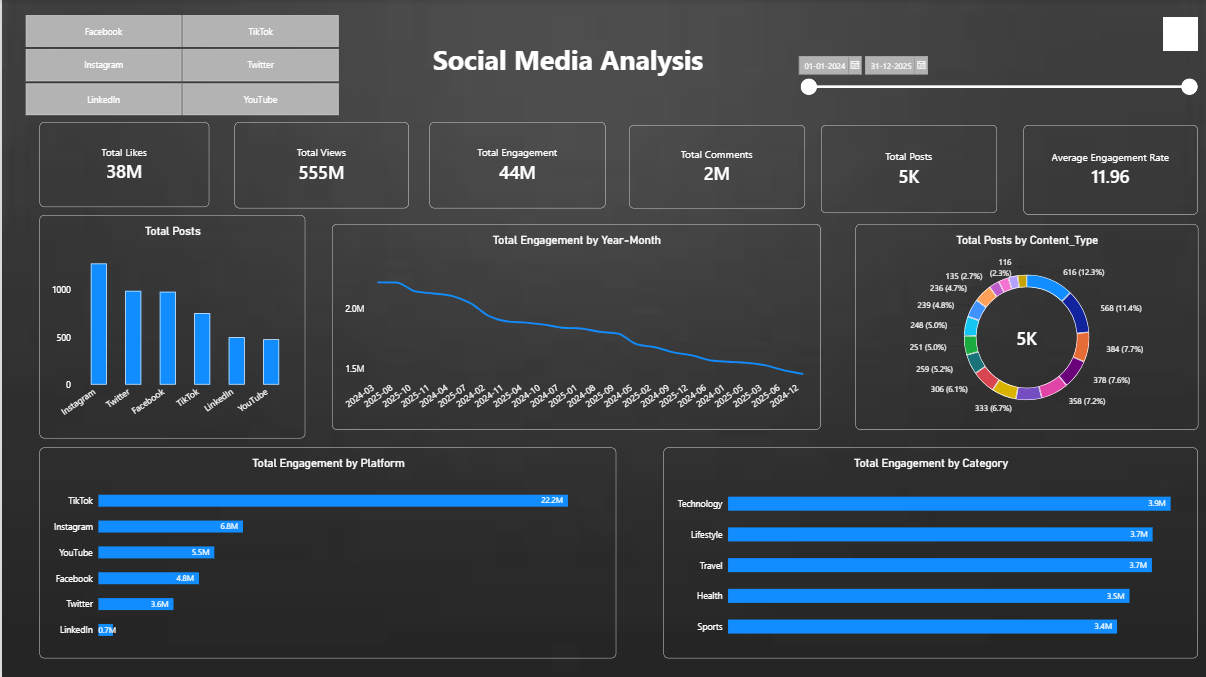

The dashboard page shown, as its layout file describes it:
{"tool":"powerbi","page":{"name":"Page 1","canvas":[1920,1080],"ordinal":0},"visuals":[{"type":"cardVisual","fields":{"Data":["social_media.Total Likes"]},"box":[60,195,270,135],"z":0},{"type":"cardVisual","fields":{"Data":["social_media.Total Posts"]},"box":[1302.5,200,280,140],"z":1000},{"type":"cardVisual","fields":{"Data":["social_media.Total Views"]},"box":[370,195,277.5,137.5],"z":2000},{"type":"cardVisual","fields":{"Data":["social_media.Total Engagement"]},"box":[680,195,280,137.5],"z":3000},{"type":"cardVisual","fields":{"Data":["social_media.Average Engagement Rate"]},"box":[1625,200,277.5,142.5],"z":4000},{"type":"cardVisual","fields":{"Data":["social_media.Total Comments"]},"box":[997.5,200,280,132.5],"z":5000},{"type":"clusteredBarChart","fields":{"Category":["social_media.Platform"],"Y":["social_media.Total Engagement"]},"box":[60,712.5,917.5,335],"z":6000},{"type":"clusteredColumnChart","title":"Total Posts","fields":{"Category":["social_media.Platform"],"Y":["social_media.Total Posts"]},"box":[60,342.5,422.5,355],"z":7000},{"type":"donutChart","fields":{"Category":["social_media.Content_Type"],"Y":["social_media.Total Posts"]},"box":[1357.5,357.5,545,327.5],"z":8000},{"type":"clusteredBarChart","fields":{"Category":["social_media.Category"],"Y":["social_media.Total Engagement"]},"box":[1052.5,712.5,850,335],"z":9000},{"type":"lineChart","fields":{"Category":["DateTable.Year-Month"],"Y":["social_media.Total Engagement"]},"box":[525,357.5,777.5,327.5],"z":10000},{"type":"slicer","fields":{"Values":["DateTable.Date"]},"box":[1260,85,645,130],"z":11000},{"type":"slicer","fields":{"Values":["social_media.Platform"]},"box":[17.5,25,537.5,162.5],"z":12000},{"type":"textbox","box":[572.5,67.5,655,82.5],"z":13000}]}

Visuals, with their boxes in screenshot pixels (x1, y1, x2, y2), scaled from the page's 1920x1080 canvas onto the 1206x677 screenshot:
cardVisual - social_media.Total Likes: locate(38, 122, 207, 207)
cardVisual - social_media.Total Posts: locate(818, 125, 994, 213)
cardVisual - social_media.Total Views: locate(232, 122, 407, 208)
cardVisual - social_media.Total Engagement: locate(427, 122, 603, 208)
cardVisual - social_media.Average Engagement Rate: locate(1021, 125, 1195, 215)
cardVisual - social_media.Total Comments: locate(627, 125, 802, 208)
clusteredBarChart - social_media.Platform x social_media.Total Engagement: locate(38, 447, 614, 657)
"Total Posts" clusteredColumnChart: locate(38, 215, 303, 437)
donutChart - social_media.Content_Type x social_media.Total Posts: locate(853, 224, 1195, 429)
clusteredBarChart - social_media.Category x social_media.Total Engagement: locate(661, 447, 1195, 657)
lineChart - DateTable.Year-Month x social_media.Total Engagement: locate(330, 224, 818, 429)
slicer - DateTable.Date: locate(791, 53, 1197, 135)
slicer - social_media.Platform: locate(11, 16, 349, 118)
textbox: locate(360, 42, 771, 94)
